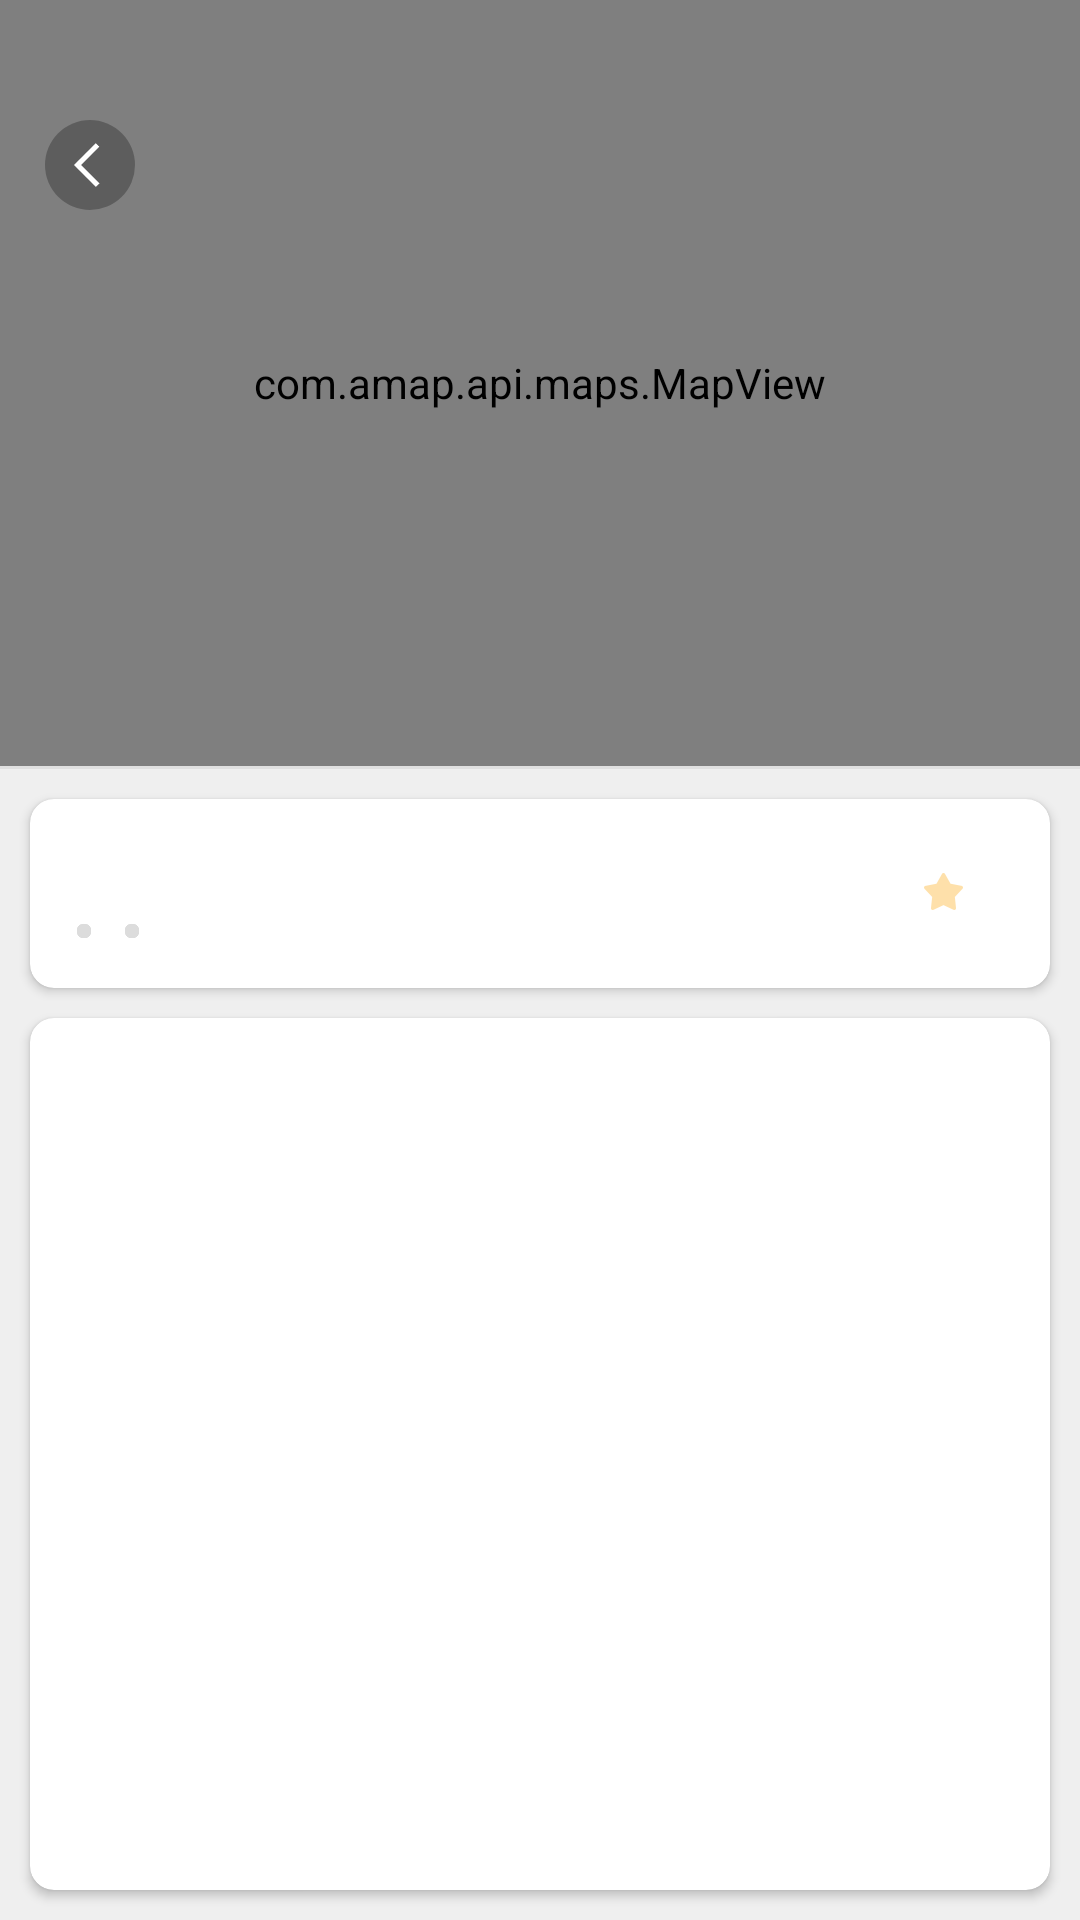

Icon bounding boxes for this 1080w x 1920h phone screenshot, format (x1, y1, x2, y2):
map back: (45, 120, 135, 210)
